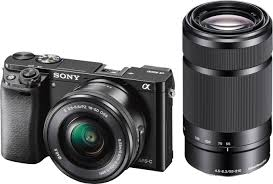camera: (3, 61, 165, 172), (190, 7, 269, 41)
lens: (45, 110, 135, 175)
